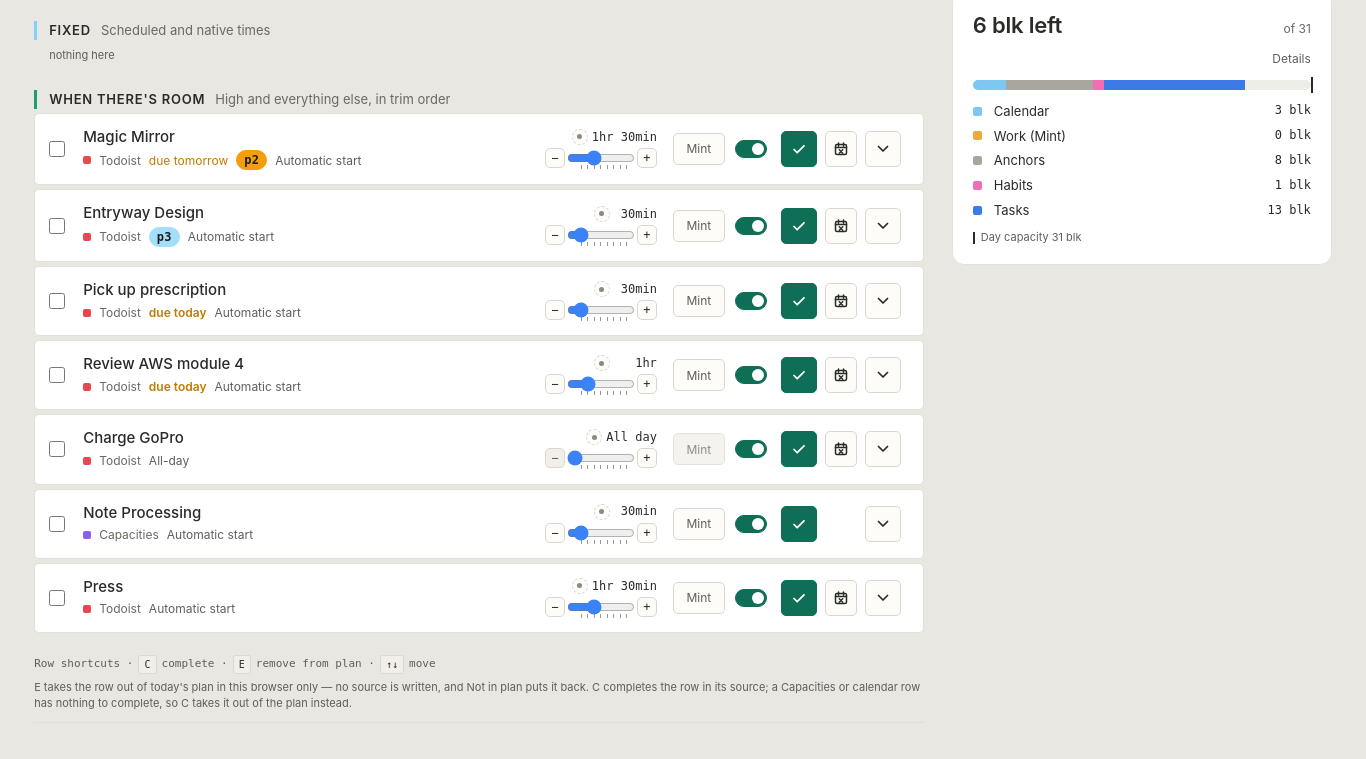
Test case: the row's source unassign: one click opens the confirm, nothing else › names Todoist on the control and writes nothing on the first click
(page scrolled)
Expected: the 6th icon with class "unassign__icon" is shown, [833, 590, 849, 606]
Click the 6th button named "Unassign in Todoist…". click: coordinates (841, 598)
box: [825, 580, 857, 616]
(page scrolled)
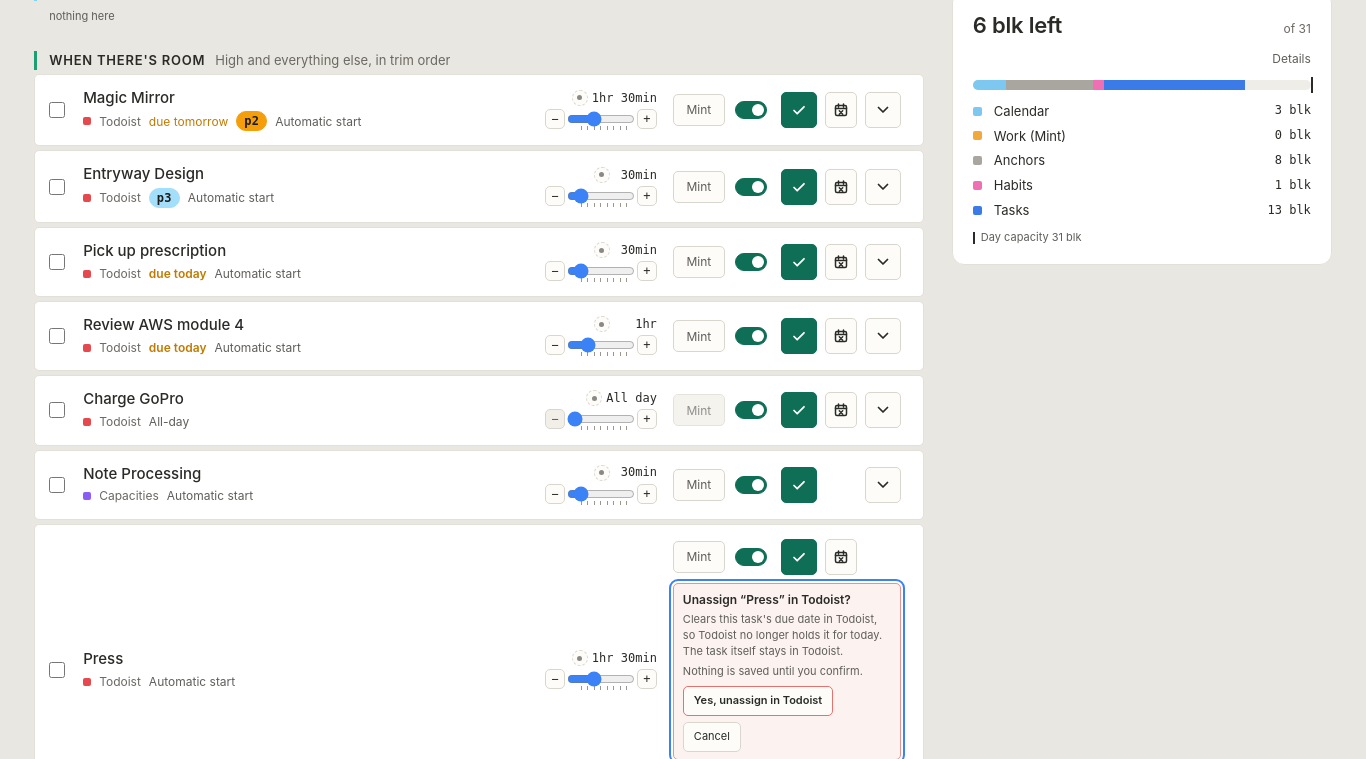
Expected: the element with class "unassign__panel" is shown, [673, 583, 901, 758]
Expected: the element with class "unassign__panel" shows "Unassign “Press” in Todoist?", [683, 592, 851, 607]
Expected: the element with class "unassign__panel" shows "Clears this task's due date in Todoist", [683, 612, 882, 658]
